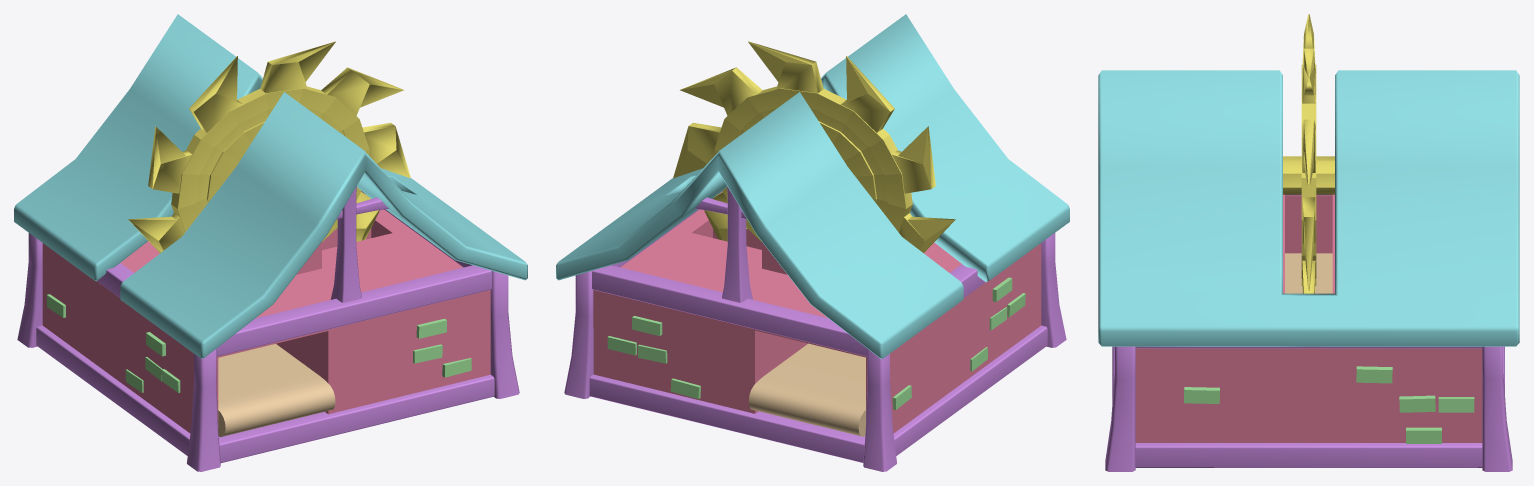
Rendered from TartakLV1.fbx.
3 renders of one model, left to right at view 1: azimuth 30°, elevation 25°; view 2: azimuth 150°, elevation 25°; view 3: azimuth 270°, elevation 25°, orthographic. The views are drawn at different scales.
Visible parts, largest first — view 1: Cylinder.020, Cylinder.021; view 2: Cylinder.020, Cylinder.021; view 3: Cylinder.020, Cylinder.021.
Part boxes in pixels (x1=…): Cylinder.020: x1=14, y1=14, x2=527, y2=471; Cylinder.021: x1=128, y1=41, x2=410, y2=253; Cylinder.020: x1=556, y1=14, x2=1069, y2=471; Cylinder.021: x1=673, y1=41, x2=955, y2=253; Cylinder.020: x1=1098, y1=70, x2=1519, y2=471; Cylinder.021: x1=1301, y1=14, x2=1316, y2=293.
Size of the model in its own units: 199 by 185 by 199.
